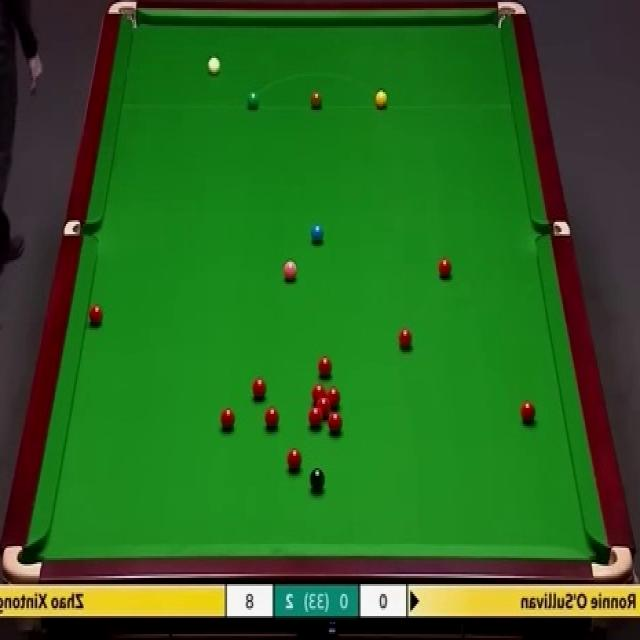black-ball: (308, 466, 325, 493)
blue-ball: (310, 222, 325, 245)
brown-ball: (310, 90, 323, 110)
green-ball: (247, 89, 260, 110)
pink-ball: (280, 260, 300, 288)
red-ball: (86, 303, 104, 331), (285, 446, 303, 473), (436, 258, 454, 281), (251, 376, 267, 401), (399, 326, 415, 351), (521, 400, 537, 424), (264, 407, 280, 431), (220, 408, 236, 432), (308, 408, 324, 430), (317, 357, 332, 378), (326, 390, 341, 410), (328, 412, 342, 433), (311, 384, 326, 403), (317, 398, 330, 416)
white-ball: (206, 53, 224, 76)
yellow-ball: (375, 90, 387, 110)
